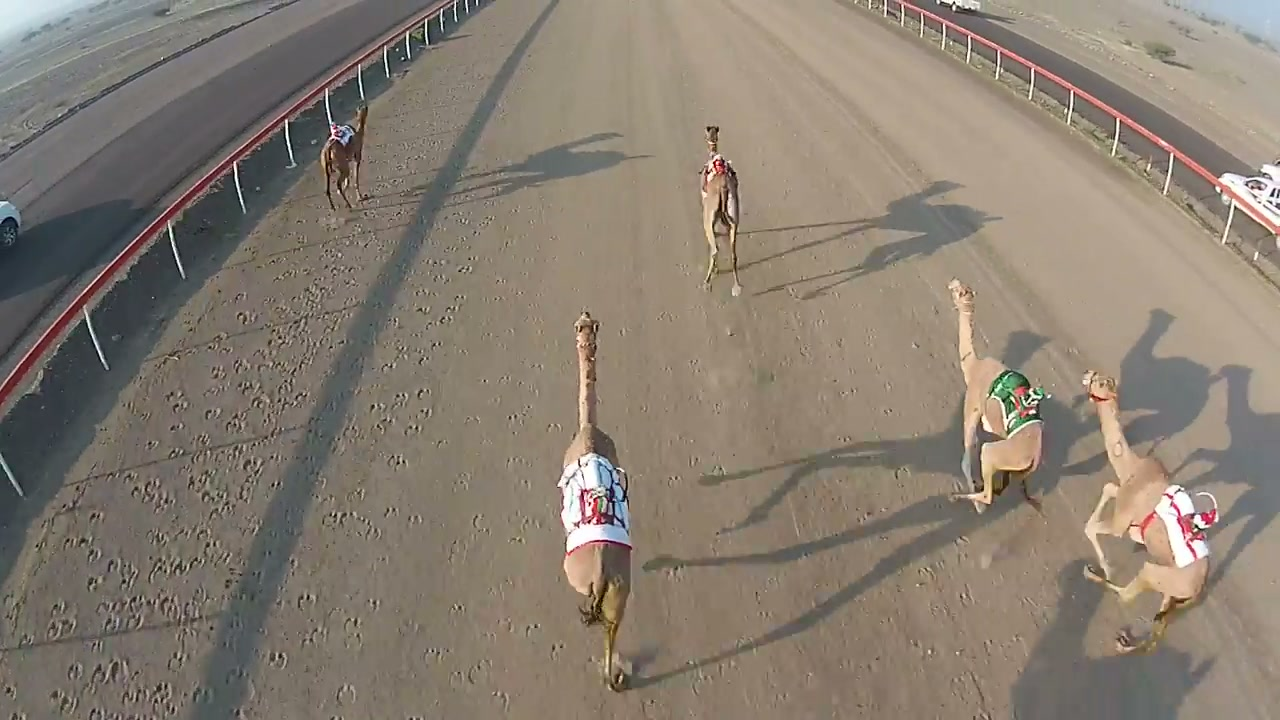animal_footprint: (35, 162, 475, 718)
